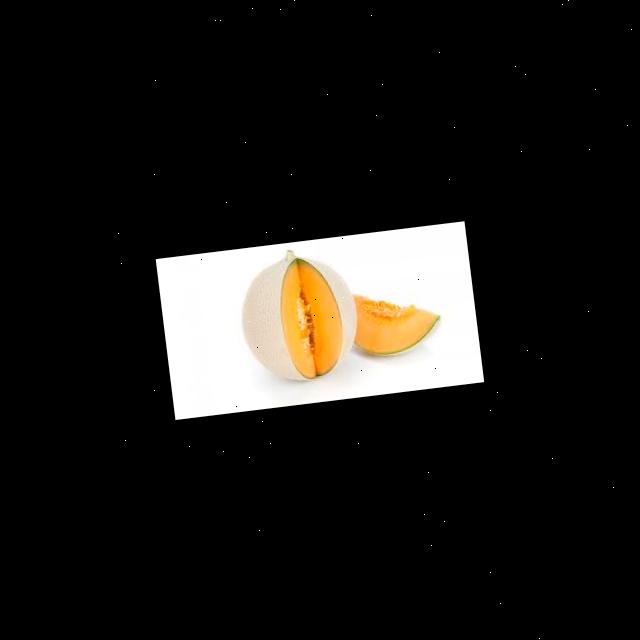Hami Melon: (234, 244, 364, 388), (352, 280, 444, 358)
